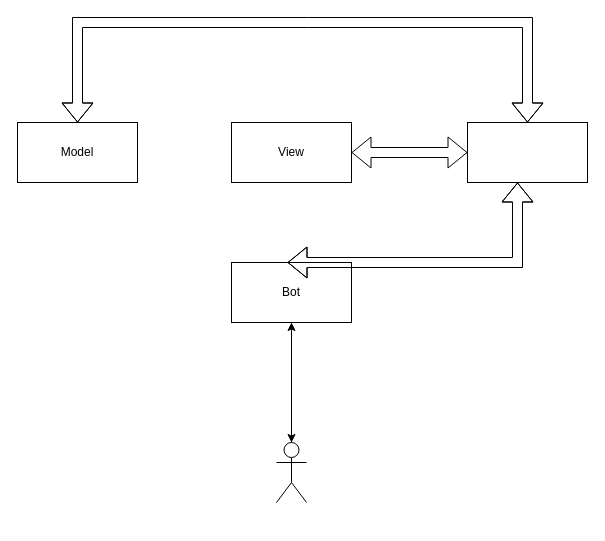
The diagram is 605 pixels wide and 541 high, and some of its shapes have lost their labels. The shapes that lost their labels are listed below. From the top down, each one's centre as x and y in pixels, then its label:
(x=527, y=152): Controller
(x=291, y=472): User
